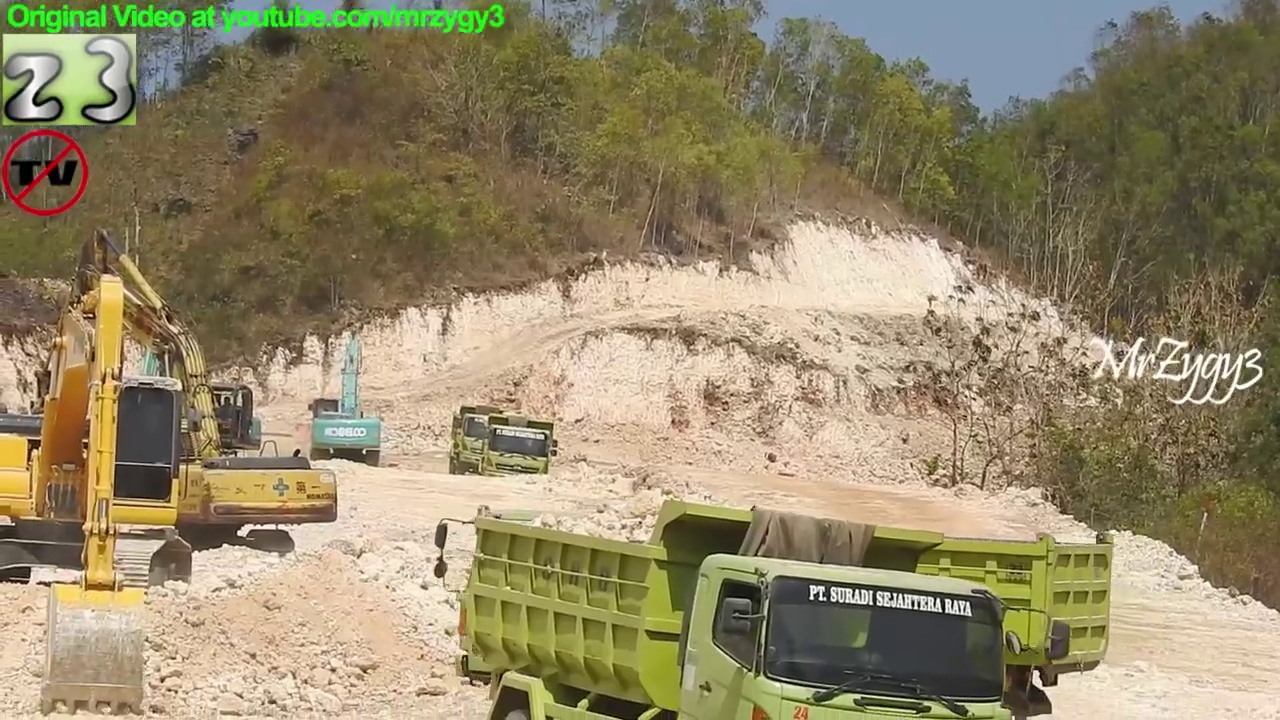excavator: (33, 223, 344, 567), (1, 268, 200, 719), (126, 296, 269, 492), (306, 327, 388, 469)
truck: (430, 495, 1123, 720), (478, 410, 558, 488), (444, 400, 522, 479)
